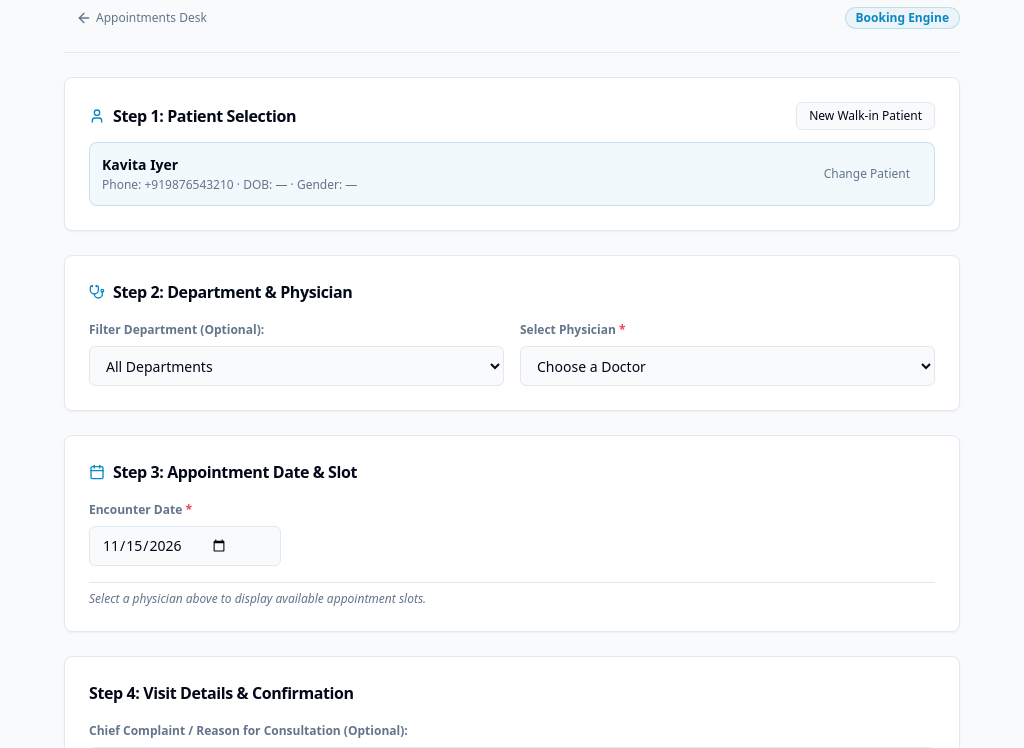
Test: Receptionist Appointments Management & Booking › executes booking appointment workflow when slot is chosen
The image size is (1024, 748).
Select "Dr. Sarah Jenkins (Cardiology) — 900.00 INR" in the dropdown showing "Choose a Doctor" below "Select Physician": (728, 366) x1=520 y1=346 x2=935 y2=386
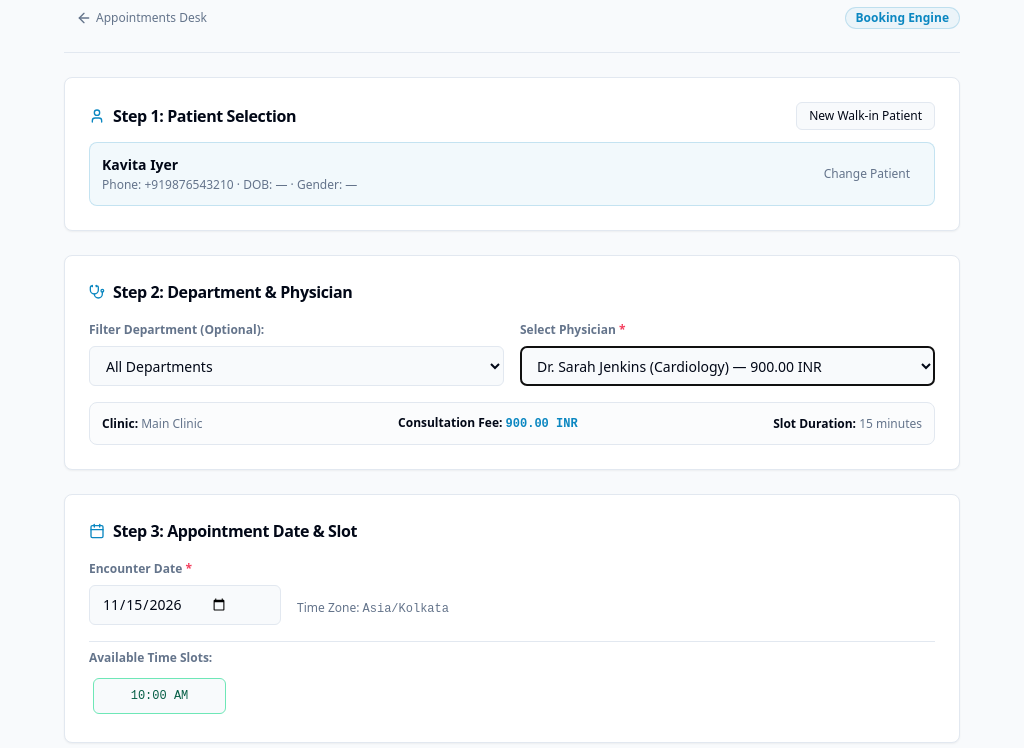
Slot button appears
Click the button "10:00 AM": (160, 696) x1=93 y1=678 x2=226 y2=714
(page scrolled)
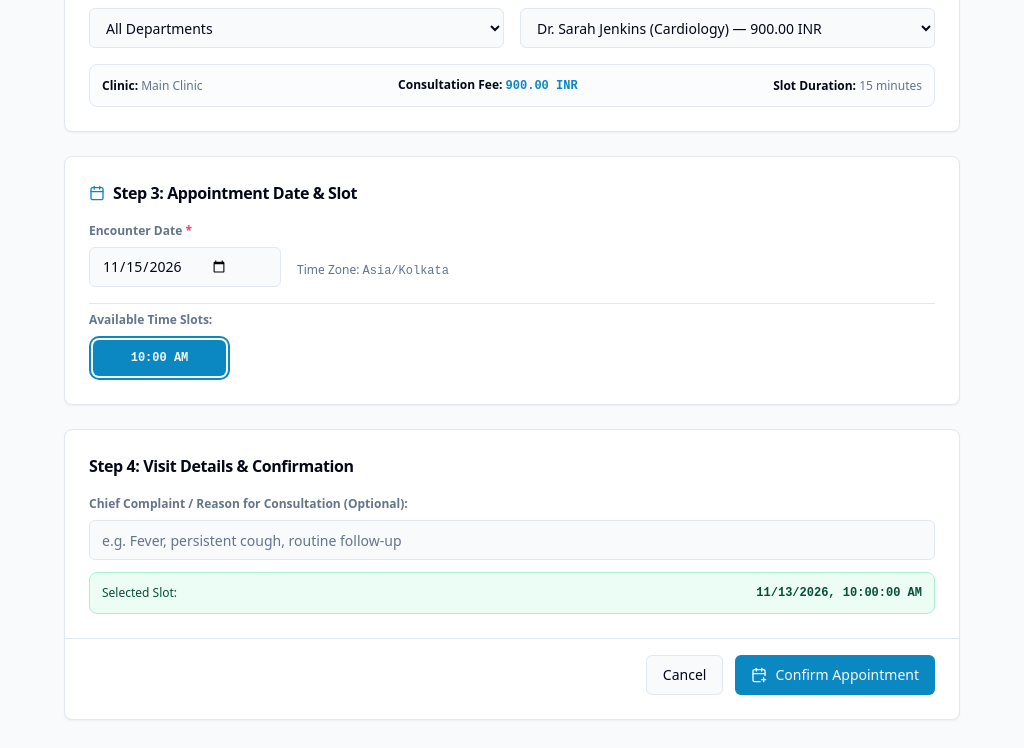
Click the button "Confirm Appointment": (835, 675) x1=735 y1=655 x2=935 y2=695
(page scrolled)
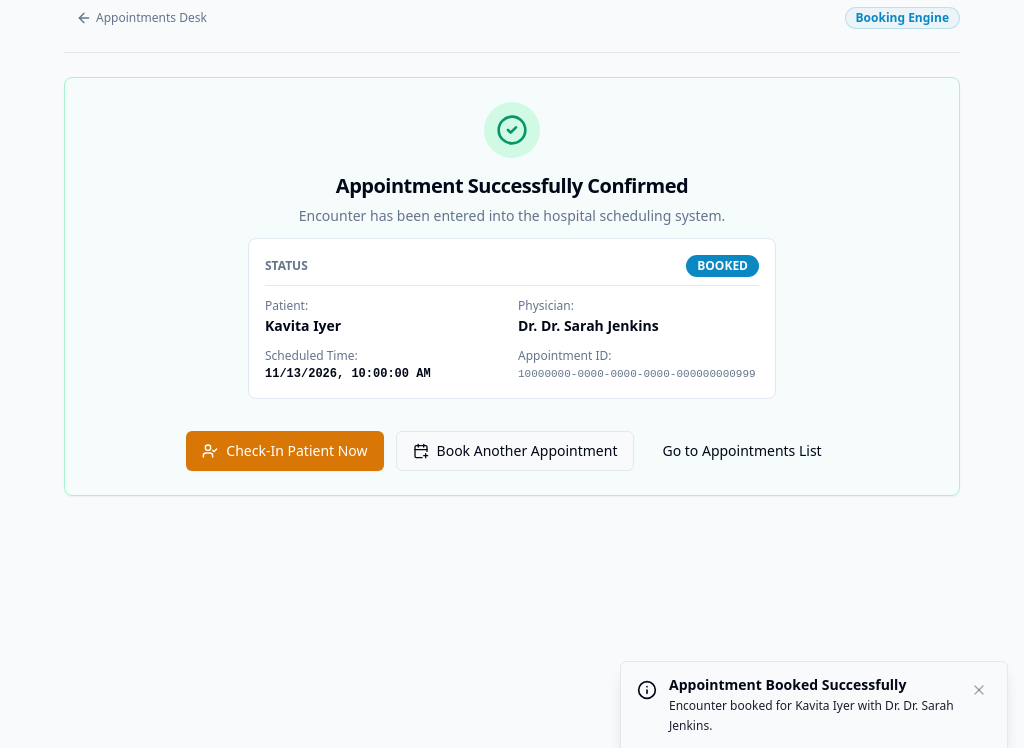
Check: the heading "Appointment Successfully Confirmed" is shown, box x1=336 y1=172 x2=688 y2=199
Check: the text "10000000-0000-0000-0000-000000000999" is shown, box x1=518 y1=366 x2=759 y2=382
